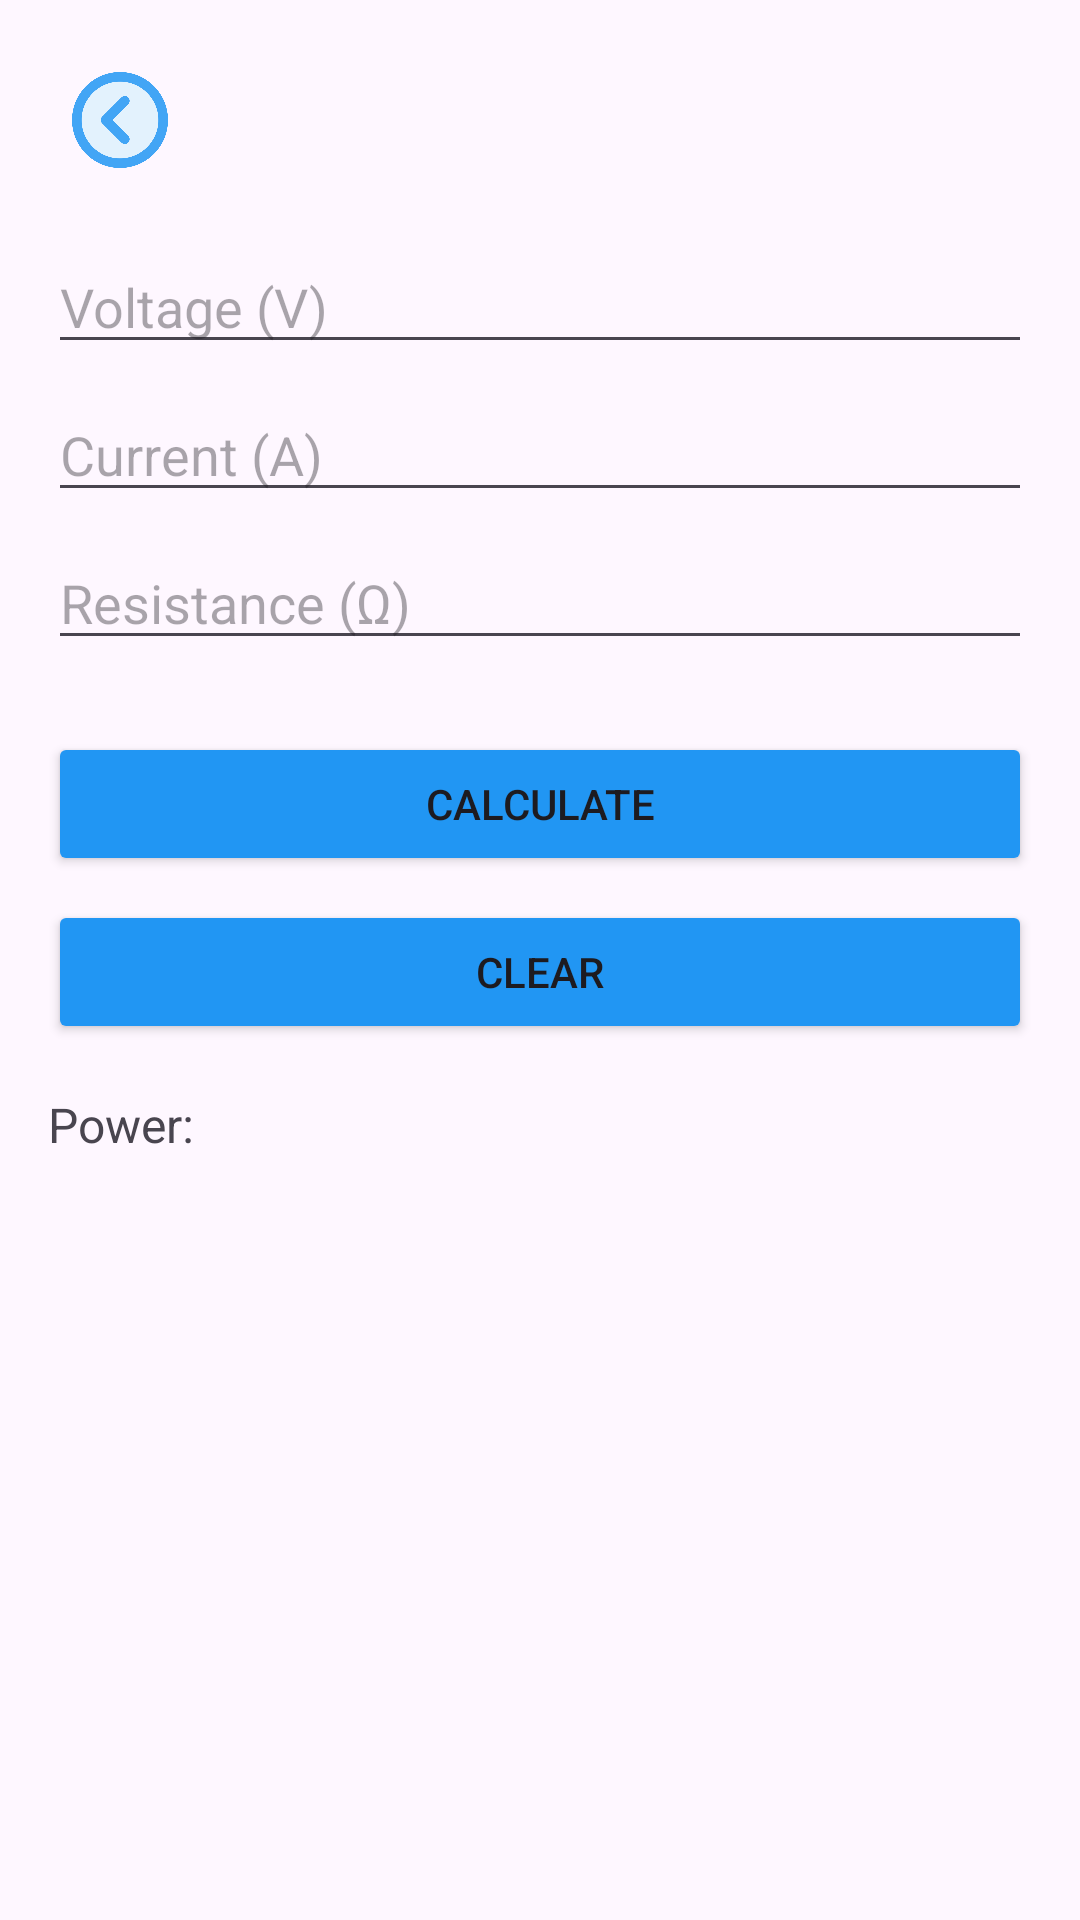

Icon click points for this 1080×1920 phone screenshot, format (x=x, y=y):
Go Back: (x=120, y=120)
